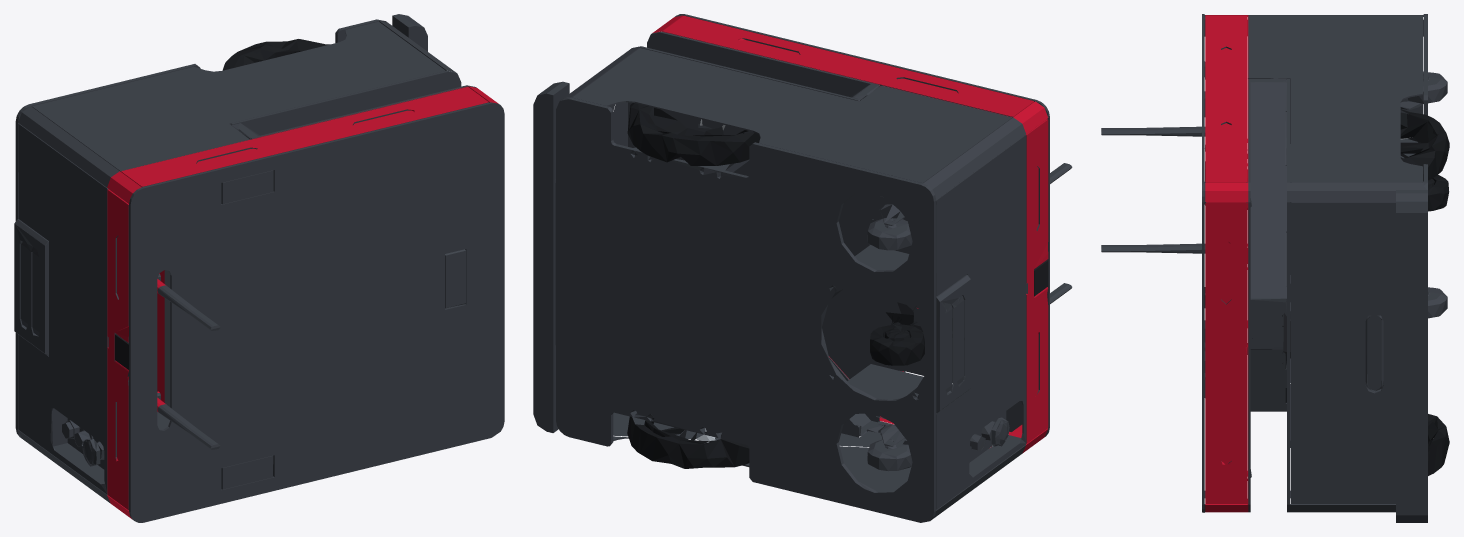
The model's file is tetra-m.glb.
The picture shows the model from 3 angles, left to right: view 1: azimuth 30°, elevation 25°; view 2: azimuth 150°, elevation 25°; view 3: azimuth 270°, elevation 25°; orthographic projection. The views are drawn at different scales.
Parts seen in each view (by area): view 1: body, band, wheel; view 2: body, band, wheel; view 3: body, band, wheel.
Boxes of the visible parts, bbox=[...] form: body: bbox=[14, 14, 504, 522]; band: bbox=[107, 86, 498, 519]; wheel: bbox=[222, 39, 329, 70]; body: bbox=[533, 14, 1072, 522]; band: bbox=[652, 15, 1048, 453]; wheel: bbox=[627, 103, 924, 468]; body: bbox=[1101, 14, 1447, 522]; band: bbox=[1205, 15, 1248, 512]; wheel: bbox=[1400, 109, 1449, 475].
Size of the model in its own units: 0.6132 by 0.49 by 0.4701.
